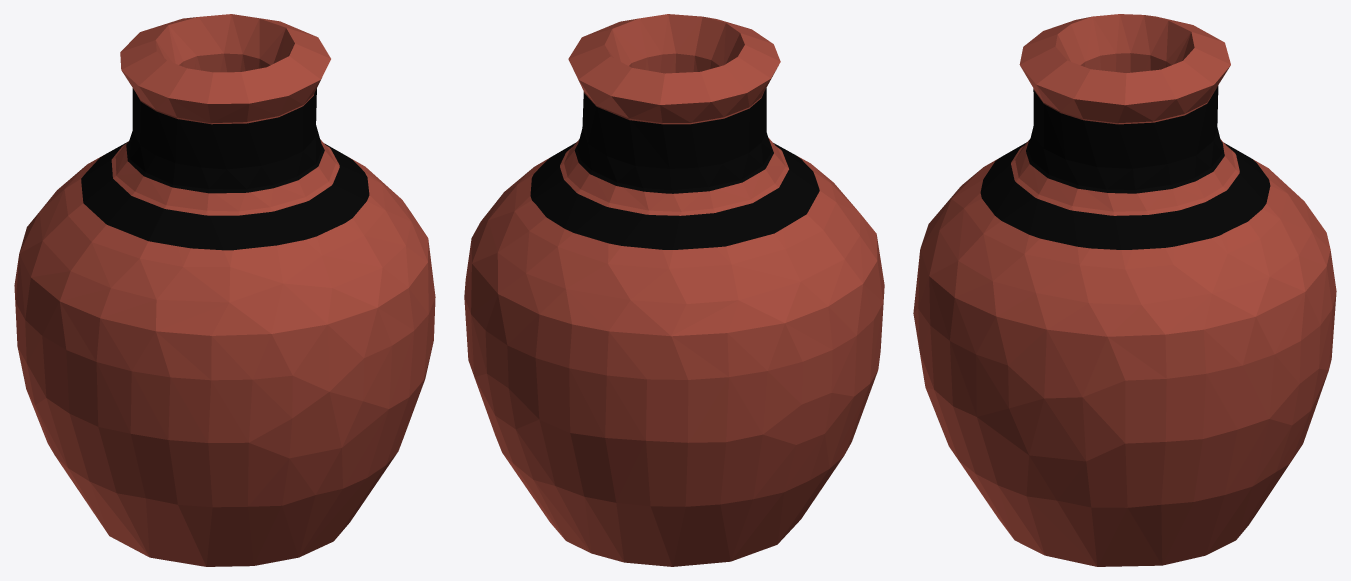
The model's file is Pottery 13_1.fbx.
The picture shows the model from 3 angles, left to right: view 1: azimuth 30°, elevation 25°; view 2: azimuth 150°, elevation 25°; view 3: azimuth 270°, elevation 25°; orthographic projection.
Parts seen in each view (by area): view 1: Pottery 13_1; view 2: Pottery 13_1; view 3: Pottery 13_1.
Part boxes in pixels (box(x1,y1,x2,y2)): Pottery 13_1: box(14, 14, 435, 566); Pottery 13_1: box(464, 14, 884, 566); Pottery 13_1: box(913, 14, 1336, 566).
Size of the model in its own units: 53.04 by 65.33 by 53.14.
